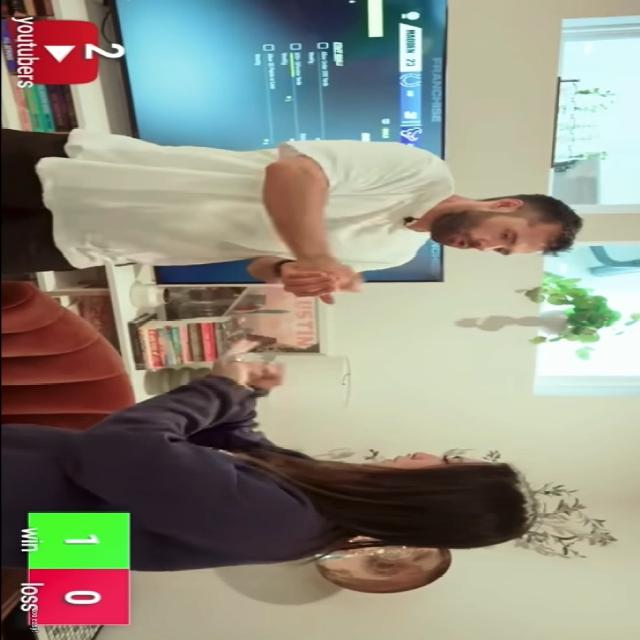Rock: (296, 258, 364, 292), (234, 360, 289, 390)
